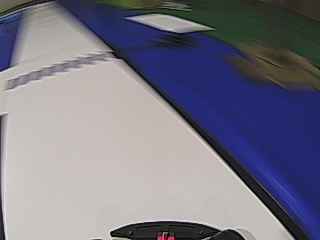CrossWalk: (15, 51, 113, 87)
